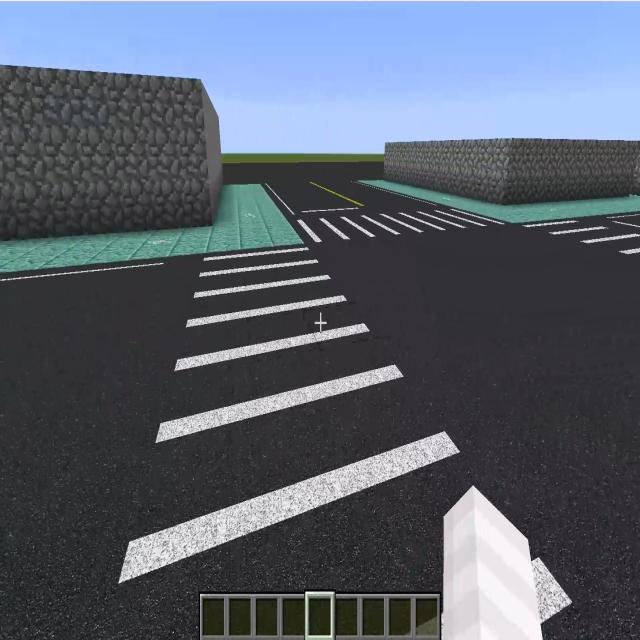crosswalk: (105, 249, 517, 639), (289, 210, 506, 244), (530, 545, 602, 639), (517, 223, 640, 261)
road: (312, 229, 640, 639), (0, 256, 204, 638), (223, 162, 442, 217), (578, 214, 640, 233)
sidewalk: (1, 184, 303, 272), (364, 180, 640, 223)
